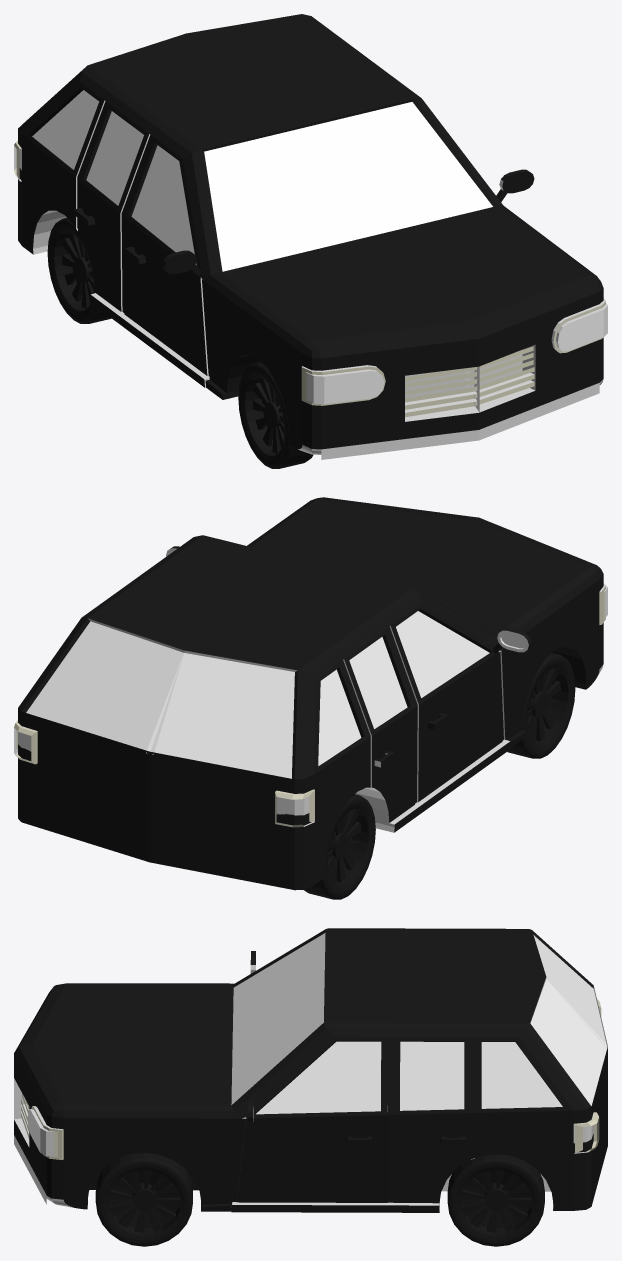
File: black-car.glb
The picture shows the model from 3 angles, top to bottom: view 1: azimuth 30°, elevation 25°; view 2: azimuth 150°, elevation 25°; view 3: azimuth 270°, elevation 25°; orthographic projection. The views are drawn at different scales.
Visible parts, largest first — view 1: Cube.039, Cube.041, Unhide.006, Unhide.007, Cube.043, Cube.040, Cube.042; view 2: Cube.039, Cube.041, Unhide.007, Unhide.006, Cube.040, Cube.043; view 3: Cube.039, Cube.041, Unhide.007, Cube.040, Unhide.006, Cube.043.
Boxes of the visible parts, box(x1,y1,x2,y2) form: Cube.039: box(18, 14, 603, 449); Cube.041: box(14, 90, 607, 404); Unhide.006: box(15, 100, 607, 459); Unhide.007: box(47, 218, 313, 468); Cube.043: box(14, 140, 605, 417); Cube.040: box(22, 82, 506, 399); Cube.042: box(162, 169, 534, 274); Cube.039: box(18, 497, 603, 890); Cube.041: box(14, 587, 607, 778); Unhide.007: box(303, 646, 586, 899); Unhide.006: box(14, 548, 607, 832); Cube.040: box(314, 609, 526, 832); Cube.043: box(14, 586, 605, 827); Cube.039: box(14, 928, 607, 1210); Cube.041: box(27, 933, 607, 1156); Unhide.007: box(68, 1153, 544, 1246); Cube.040: box(201, 1037, 573, 1212); Unhide.006: box(14, 965, 607, 1210); Cube.043: box(21, 999, 601, 1159).
Size of the model in its own units: 5.76 by 3.5 by 8.98.
